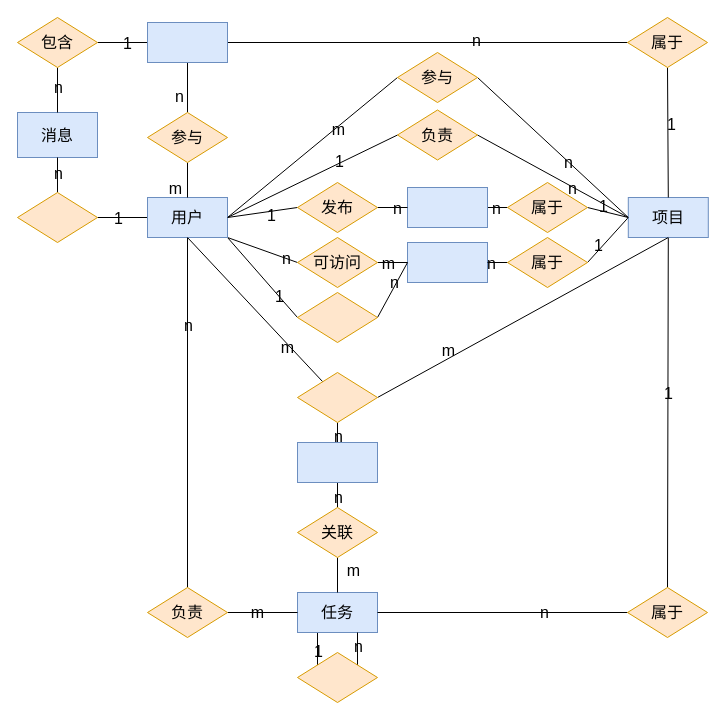
Image size: 726x720. Some labels were removed from this diagram. Each missing label, with the centre of its shape:
代码库: the point at 337,462
依赖: the point at 337,677
公告: the point at 447,207
共享文档: the point at 447,262
发送: the point at 57,217
所有: the point at 337,317
绑定: the point at 337,397
群组: the point at 187,42
